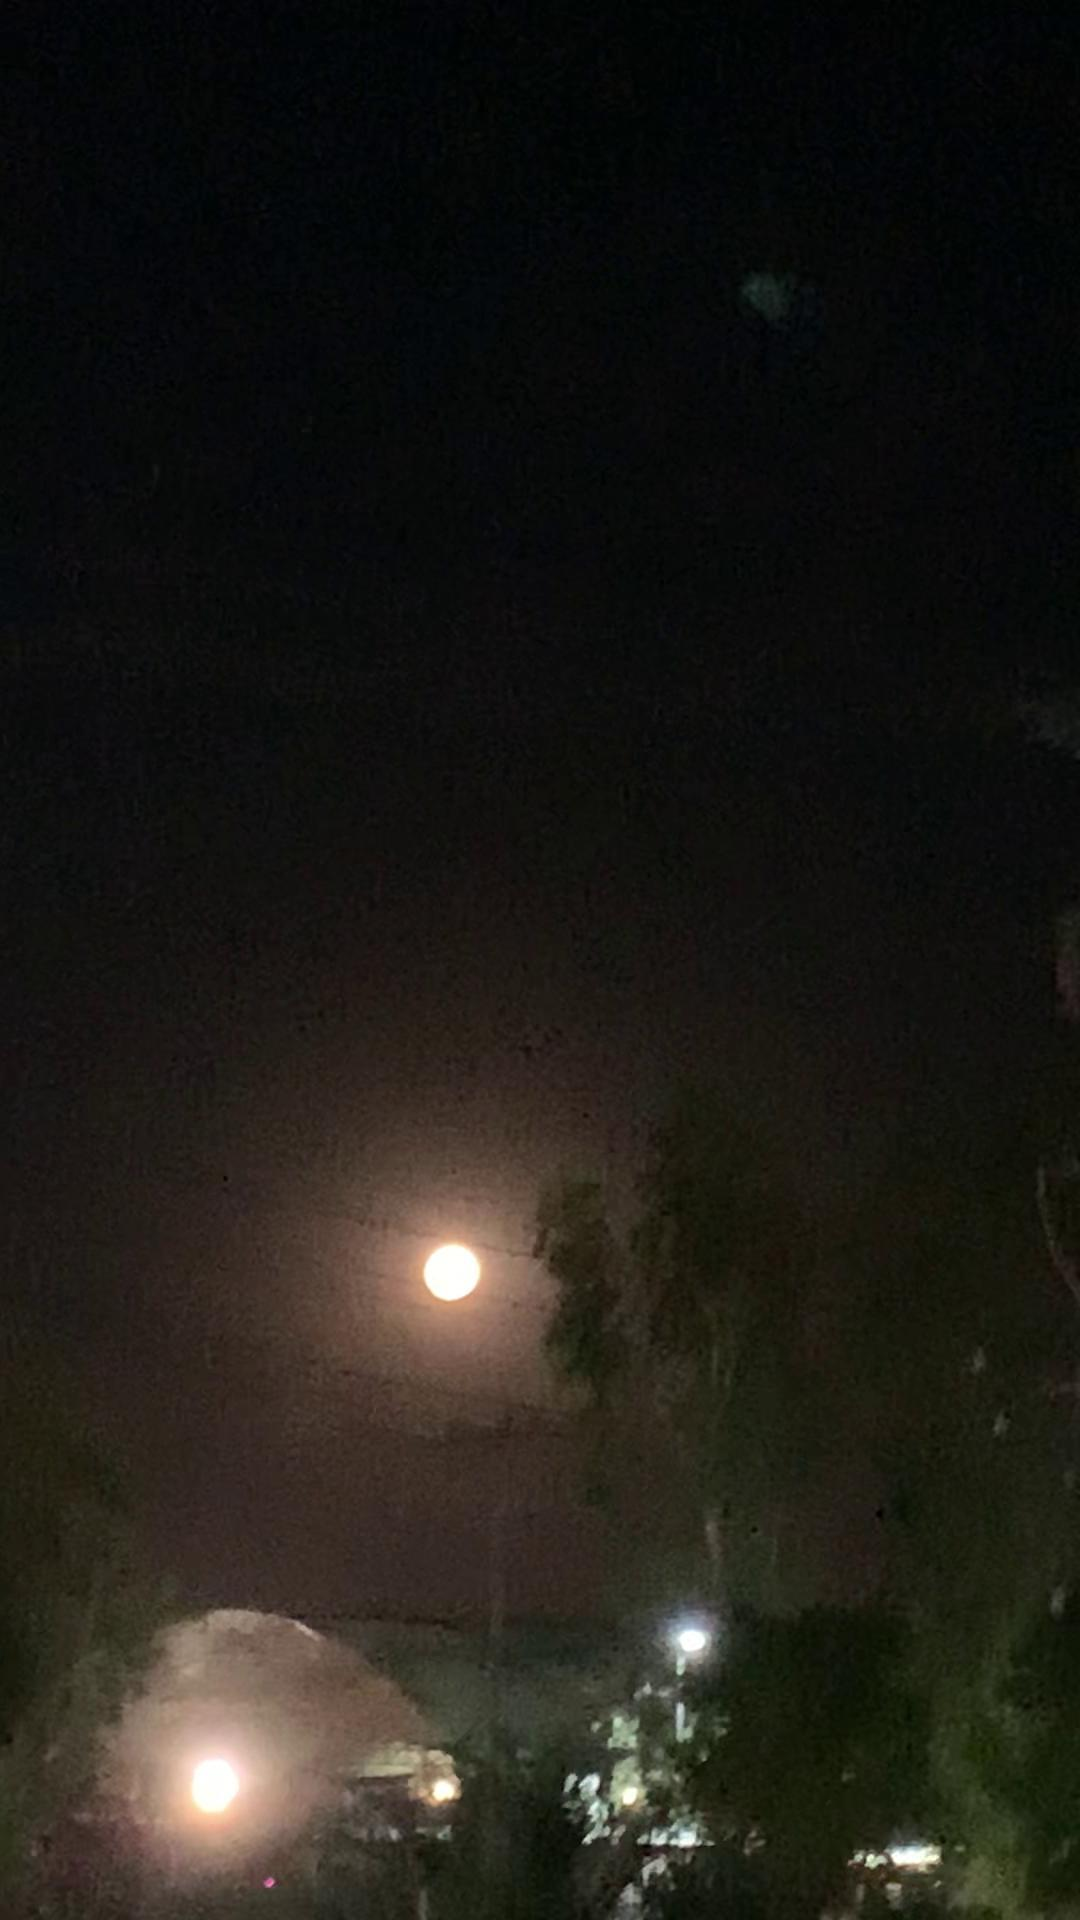moon: (410, 1244, 480, 1315)
